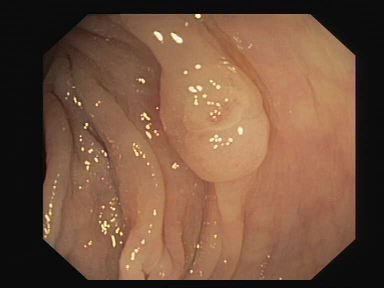polyp: (129, 33, 308, 200)
